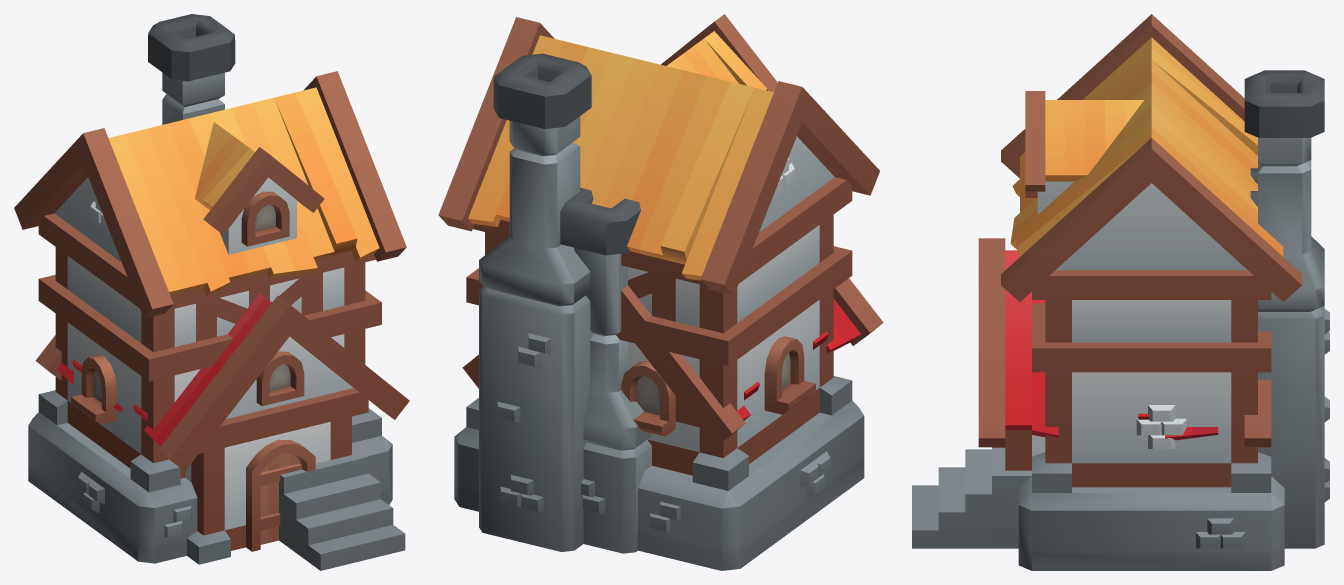
Rendered from KayKit_Homes.glb.
3 views of the same model, side by side, from view 1: azimuth 30°, elevation 25°; view 2: azimuth 150°, elevation 25°; view 3: azimuth 270°, elevation 25° (orthographic). The views are drawn at different scales.
Visible parts, largest first — view 1: home_B_yellow, home_A_red; view 2: home_B_yellow, home_A_red; view 3: home_B_yellow, home_A_red.
Part boxes in pixels (x1,y1,x2,y2): home_B_yellow: (14, 14, 406, 570); home_A_red: (35, 293, 409, 564); home_B_yellow: (438, 14, 879, 570); home_A_red: (462, 187, 883, 553); home_B_yellow: (912, 14, 1329, 570); home_A_red: (978, 168, 1271, 548).
Bounding box in the file's own units: 0.8749 × 1.28 × 1.1.
Materials: 1 (1 with a texture image).
